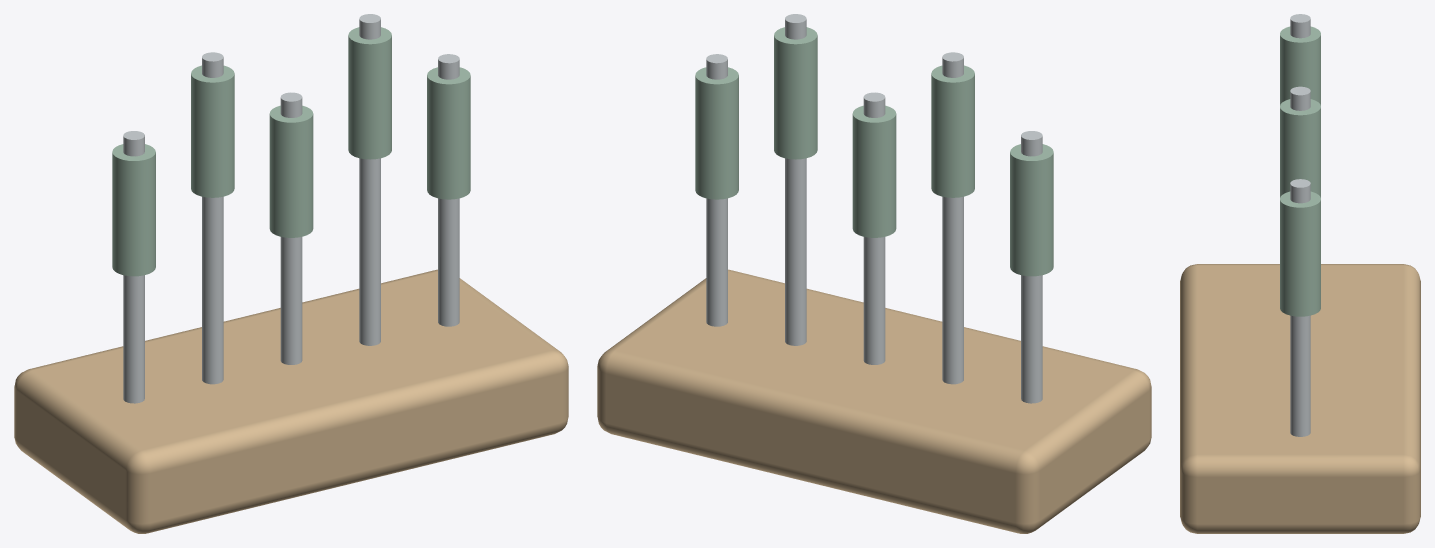
The model's file is hearing-aid-and-audiology-clinic-precision-service-too-962dc697__31760.glb.
The picture shows the model from 3 angles, left to right: view 1: azimuth 30°, elevation 25°; view 2: azimuth 150°, elevation 25°; view 3: azimuth 270°, elevation 25°; orthographic projection. The views are drawn at different scales.
Visible parts, largest first — view 1: precision-service-tool-stand; view 2: precision-service-tool-stand; view 3: precision-service-tool-stand.
Part boxes in pixels (x1=…): precision-service-tool-stand: x1=14, y1=14, x2=568, y2=533; precision-service-tool-stand: x1=597, y1=14, x2=1151, y2=533; precision-service-tool-stand: x1=1180, y1=14, x2=1420, y2=533.
Size of the model in its own units: 0.14 by 0.123 by 0.07.
